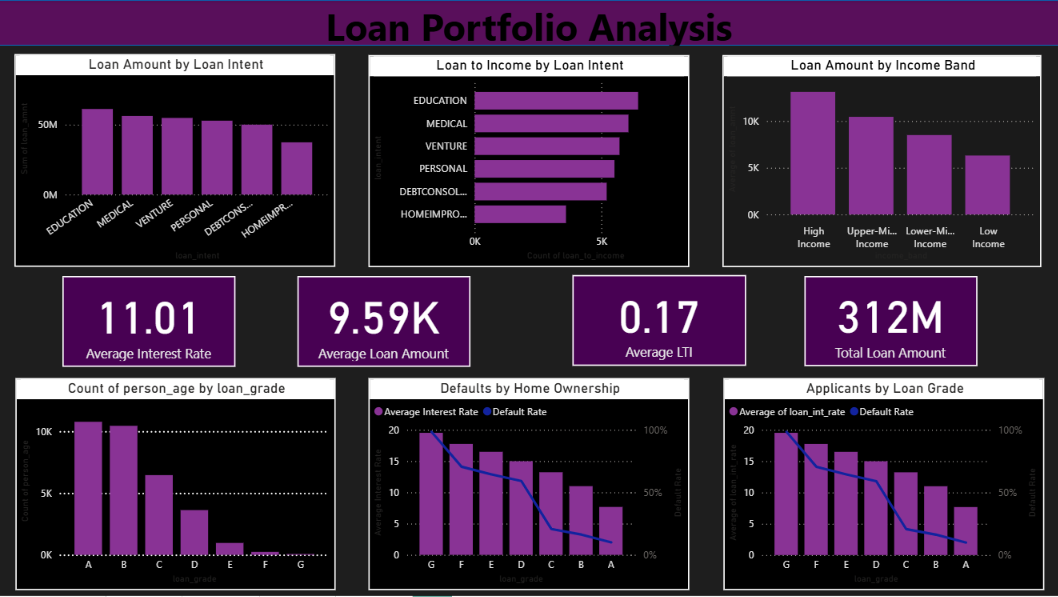

Layout of this report page (visuals, bound fields, positions):
{"tool":"powerbi","page":{"name":"Page 3","canvas":[1280,720],"ordinal":1},"visuals":[{"type":"card","fields":{"Values":["credit_risk_dashboard.Average Interest Rate"]},"box":[77.2,333,209,109.8],"z":0},{"type":"card","fields":{"Values":["credit_risk_dashboard.Average Loan Amount"]},"box":[360.7,333,209,109.8],"z":1000},{"type":"card","fields":{"Values":["credit_risk_dashboard.Average LTI"]},"box":[692.5,331.8,209.9,109.8],"z":2000},{"type":"card","fields":{"Values":["credit_risk_dashboard.Total Loan Amount"]},"box":[972.4,333,208.7,108.6],"z":3000},{"type":"clusteredColumnChart","title":"Loan Amount by Loan Intent","fields":{"Category":["credit_risk_dashboard.loan_intent"],"Y":["Sum(credit_risk_dashboard.loan_amnt)"]},"box":[19.3,65.1,387.3,257],"z":4000},{"type":"clusteredColumnChart","fields":{"Category":["credit_risk_dashboard.loan_grade"],"Y":["CountNonNull(credit_risk_dashboard.person_age)"]},"box":[20.5,456,386.1,255.8],"z":5000},{"type":"lineClusteredColumnComboChart","title":"Applicants by Loan Grade","fields":{"Category":["credit_risk_dashboard.loan_grade"],"Y":["Avg(credit_risk_dashboard.loan_int_rate)"],"Y2":["credit_risk_dashboard.Default Rate"]},"box":[874.3,456.1,387,256],"z":6000},{"type":"clusteredBarChart","title":"Loan to Income by Loan Intent","fields":{"Category":["credit_risk_dashboard.loan_intent"],"Y":["CountNonNull(credit_risk_dashboard.loan_to_income)"]},"box":[446.4,66.4,387.3,255.8],"z":7000},{"type":"clusteredColumnChart","title":"Loan Amount by Income Band","fields":{"Category":["credit_risk_dashboard.income_band"],"Y":["Avg(credit_risk_dashboard.loan_amnt)"]},"box":[873.5,66.4,384.9,255.8],"z":8000},{"type":"lineClusteredColumnComboChart","title":"Defaults by Home Ownership","fields":{"Y":["credit_risk_dashboard.Average Interest Rate"],"Category":["credit_risk_dashboard.loan_grade"],"Y2":["credit_risk_dashboard.Default Rate"]},"box":[446.4,456,387.3,255.8],"z":9000},{"type":"shape","box":[0,0,1280.3,55],"z":10000}]}

Visuals, with their boxes in screenshot pixels (x1, y1, x2, y2), scaled from the page's 1280x720 canvas onto the 1058x597 screenshot:
card - credit_risk_dashboard.Average Interest Rate: rect(64, 276, 237, 367)
card - credit_risk_dashboard.Average Loan Amount: rect(298, 276, 471, 367)
card - credit_risk_dashboard.Average LTI: rect(572, 275, 746, 366)
card - credit_risk_dashboard.Total Loan Amount: rect(804, 276, 976, 366)
"Loan Amount by Loan Intent" clusteredColumnChart: rect(16, 54, 336, 267)
clusteredColumnChart - credit_risk_dashboard.loan_grade x CountNonNull(credit_risk_dashboard.person_age): rect(17, 378, 336, 590)
"Applicants by Loan Grade" lineClusteredColumnComboChart: rect(723, 378, 1043, 590)
"Loan to Income by Loan Intent" clusteredBarChart: rect(369, 55, 689, 267)
"Loan Amount by Income Band" clusteredColumnChart: rect(722, 55, 1040, 267)
"Defaults by Home Ownership" lineClusteredColumnComboChart: rect(369, 378, 689, 590)
shape: rect(0, 0, 1057, 46)
